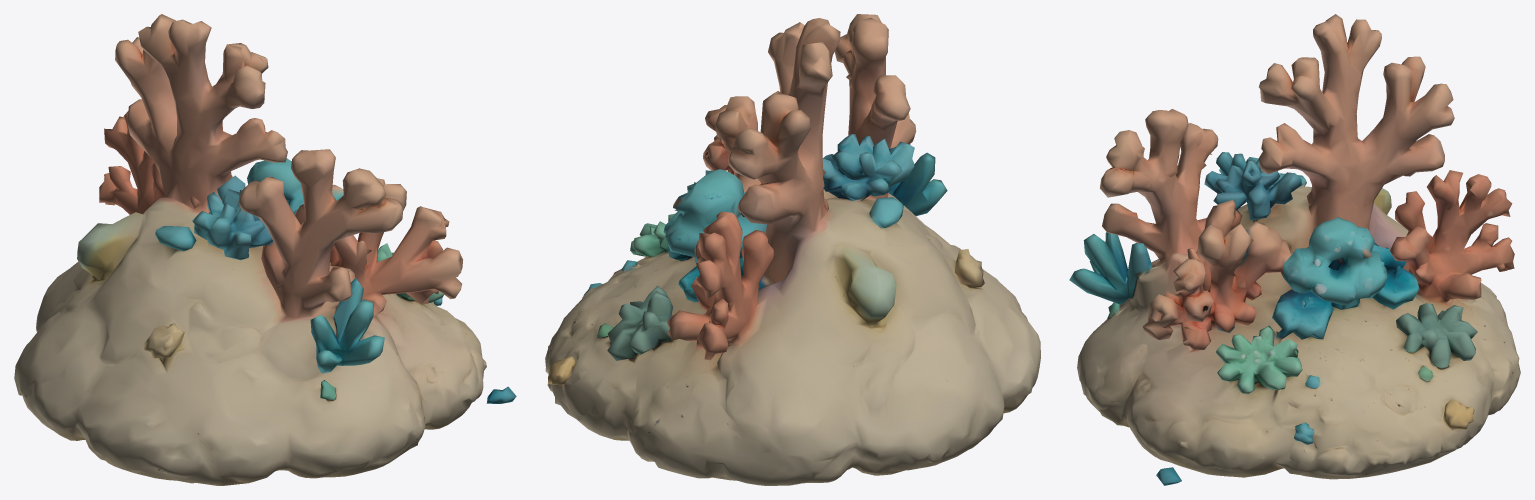
File: coral_reef.glb
The picture shows the model from 3 angles, left to right: view 1: azimuth 30°, elevation 25°; view 2: azimuth 150°, elevation 25°; view 3: azimuth 270°, elevation 25°; orthographic projection. The views are drawn at different scales.
Visible parts, largest first — view 1: tripo_node_da366eba-c083-4638-9e2f-ad9f8a320906; view 2: tripo_node_da366eba-c083-4638-9e2f-ad9f8a320906; view 3: tripo_node_da366eba-c083-4638-9e2f-ad9f8a320906.
Part boxes in pixels (x1=…): tripo_node_da366eba-c083-4638-9e2f-ad9f8a320906: x1=14, y1=14, x2=516, y2=485; tripo_node_da366eba-c083-4638-9e2f-ad9f8a320906: x1=545, y1=14, x2=1040, y2=485; tripo_node_da366eba-c083-4638-9e2f-ad9f8a320906: x1=1069, y1=14, x2=1520, y2=485.
Size of the model in its own units: 0.9727 by 0.8746 by 1.
1 material, 1 textured.
